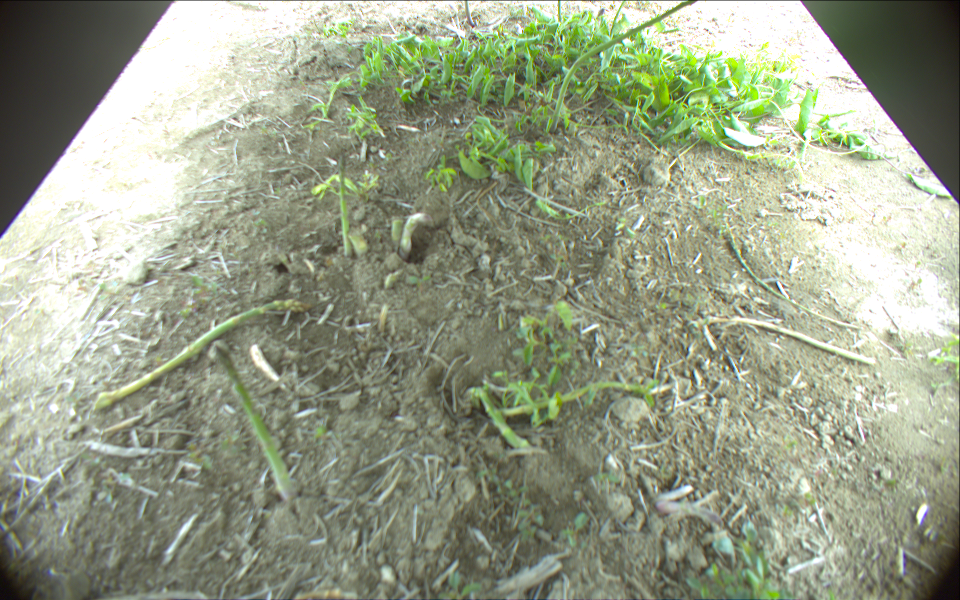aspa: (93, 299, 307, 411), (549, 1, 698, 130), (725, 222, 862, 330), (217, 346, 294, 498), (502, 382, 658, 416), (476, 388, 533, 452), (337, 153, 354, 256), (608, 1, 627, 34), (464, 1, 476, 27), (556, 1, 562, 22)
